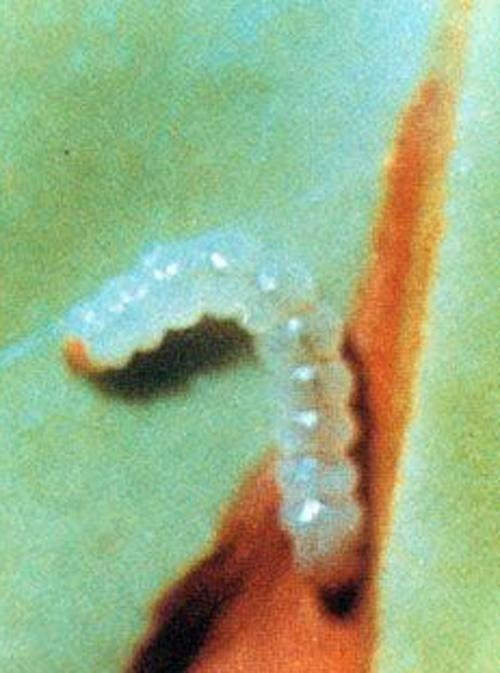Borer: (64, 251, 378, 598)
